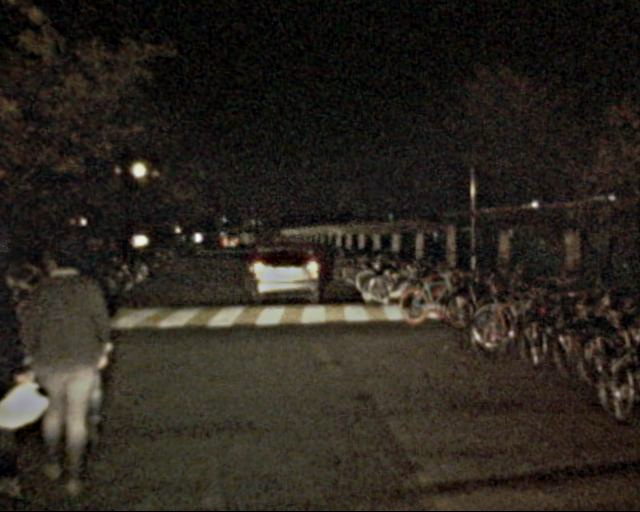person: (13, 234, 126, 496)
